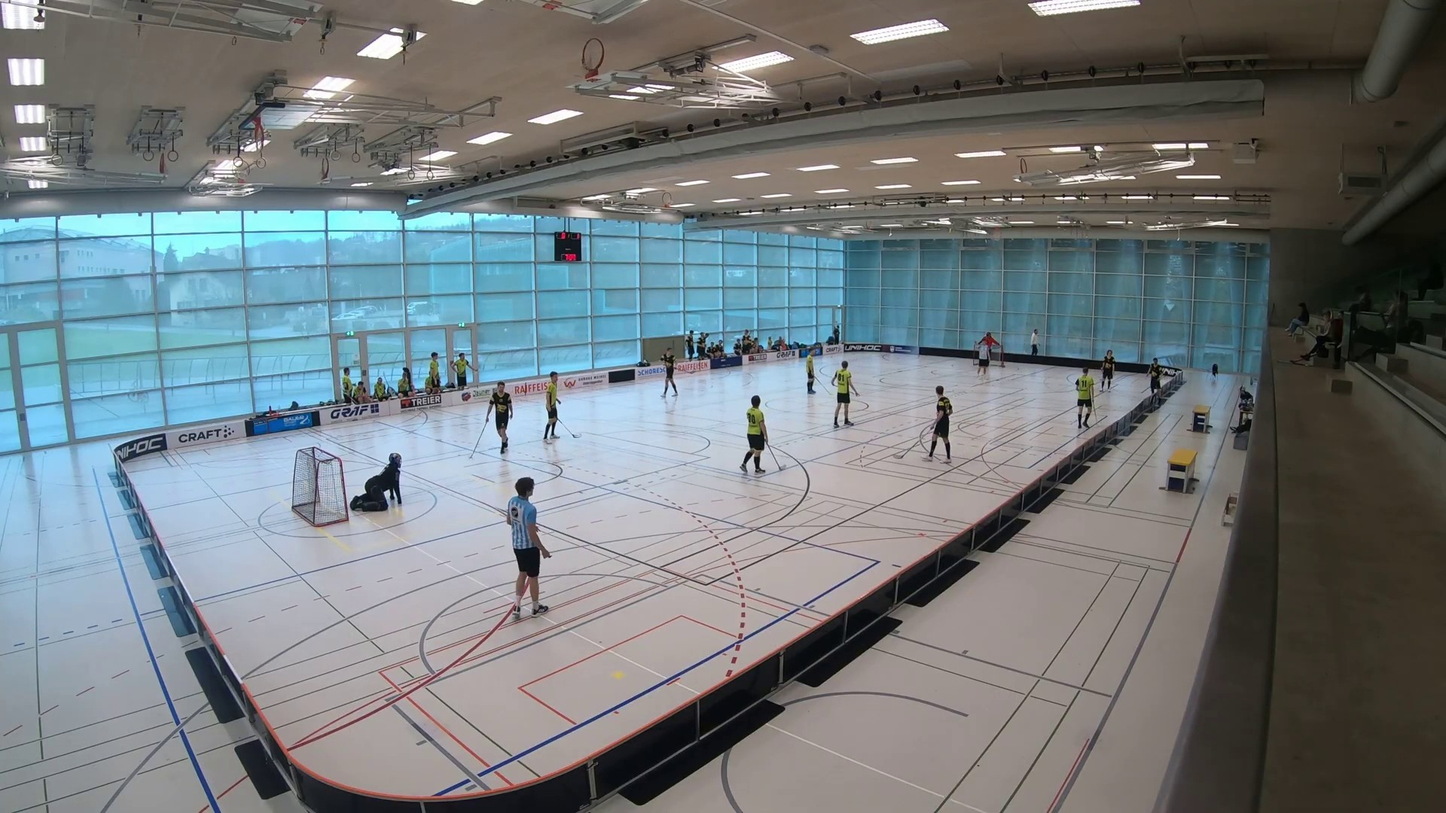Schiri: (489, 470, 555, 621), (976, 338, 989, 378)
goalkeeper: (349, 452, 401, 510), (979, 330, 1002, 358)
player: (740, 396, 767, 473), (484, 381, 511, 452), (928, 385, 952, 461), (832, 361, 858, 428), (1075, 366, 1095, 427), (545, 372, 560, 442), (660, 347, 677, 397), (1149, 358, 1163, 406), (1102, 349, 1115, 389), (804, 350, 815, 394)
